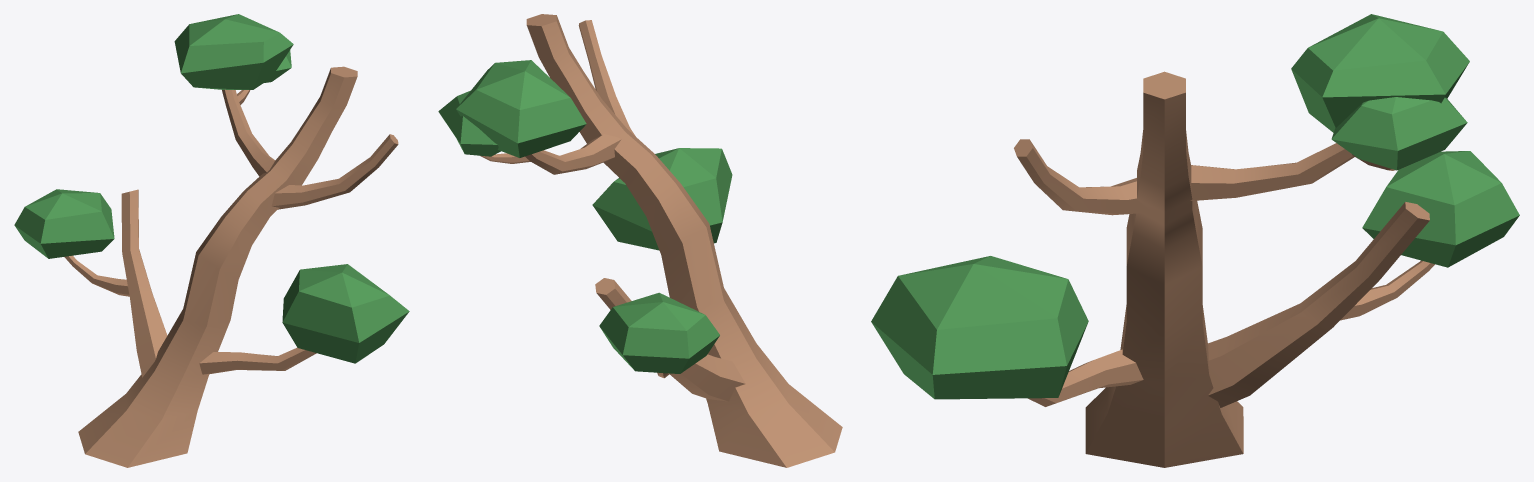
File: tree_01.fbx
The picture shows the model from 3 angles, left to right: view 1: azimuth 30°, elevation 25°; view 2: azimuth 150°, elevation 25°; view 3: azimuth 270°, elevation 25°; orthographic projection. The views are drawn at different scales.
Visible parts, largest first — view 1: pCylinder57, pSphere51, pSphere53, pSphere52, pCylinder59, pCylinder60, pCylinder58, pCylinder61, pCylinder62; view 2: pCylinder57, pSphere53, pSphere52, pSphere51, pCylinder59, pCylinder61, pSphere54, pCylinder60; view 3: pCylinder57, pSphere51, pSphere53, pCylinder59, pSphere52, pSphere54, pCylinder61, pCylinder60, pCylinder58, pCylinder62.
Part boxes in pixels (x1,y1,x2,y2): pCylinder57: (78,66,357,467); pSphere51: (282,264,409,363); pSphere53: (174,14,293,89); pSphere52: (14,189,114,258); pCylinder59: (121,189,167,377); pCylinder60: (271,134,398,209); pCylinder58: (199,347,316,374); pCylinder61: (222,89,274,176); pCylinder62: (64,255,129,296); pCylinder57: (526,14,842,467); pSphere53: (456,60,586,157); pSphere52: (599,292,719,373); pSphere51: (592,148,732,250); pCylinder59: (595,278,745,401); pCylinder61: (525,134,621,174); pSphere54: (438,90,500,156); pCylinder60: (578,20,635,136); pCylinder57: (1085,71,1243,467); pSphere51: (871,256,1088,399); pSphere53: (1291,14,1469,132); pCylinder59: (1208,202,1429,407); pSphere52: (1362,151,1519,267); pSphere54: (1331,97,1467,170); pCylinder61: (1190,143,1354,200); pCylinder60: (1014,139,1152,215); pCylinder58: (1028,349,1143,406); pCylinder62: (1340,260,1434,320).
Bounding box in the file's own units: 99.73 × 115 × 126.
